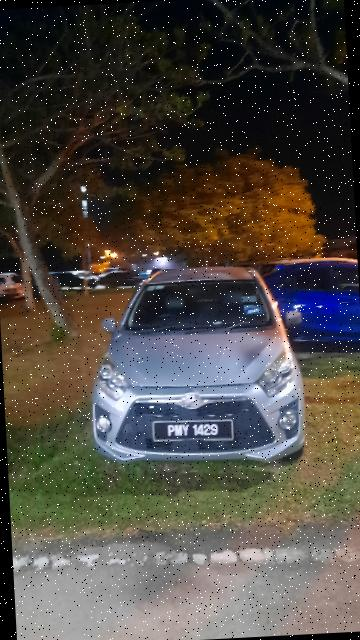License_Plate: (153, 416, 238, 448)
car: (86, 260, 311, 476)
